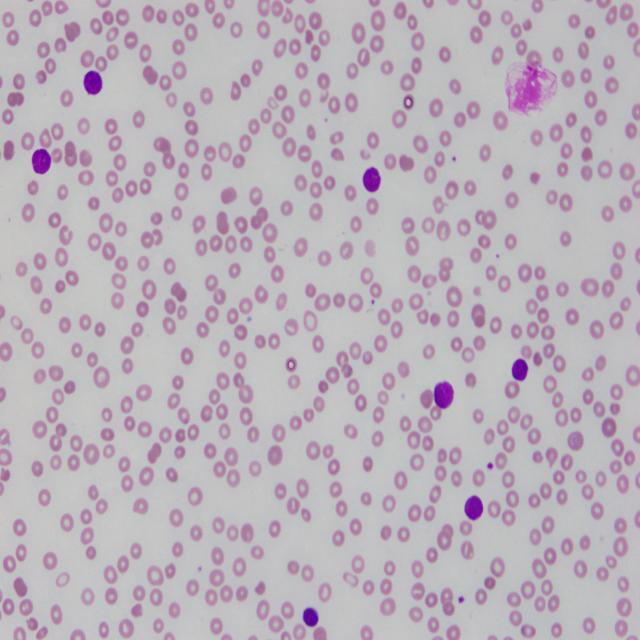cell: (434, 382, 454, 408), (31, 148, 51, 173), (464, 495, 484, 520), (362, 167, 381, 192), (84, 70, 102, 95), (511, 358, 528, 381), (302, 607, 319, 627)
